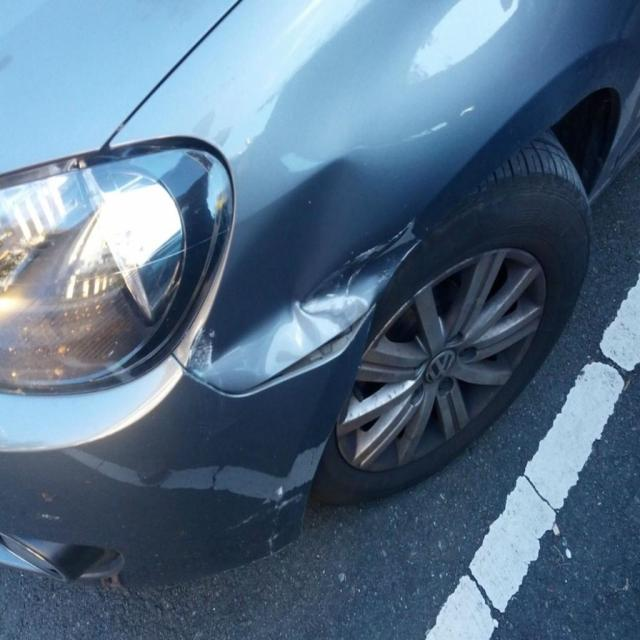Damage: (157, 164, 436, 397)
